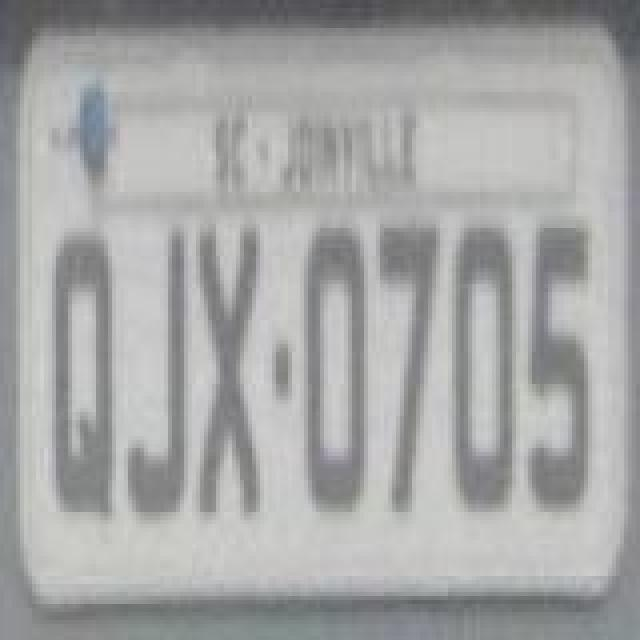5: (528, 222, 592, 514)
7: (376, 222, 440, 514)
J: (124, 234, 188, 526)
O: (304, 226, 368, 510), (452, 226, 516, 510)
Q: (54, 226, 114, 526)
X: (196, 226, 260, 526)
